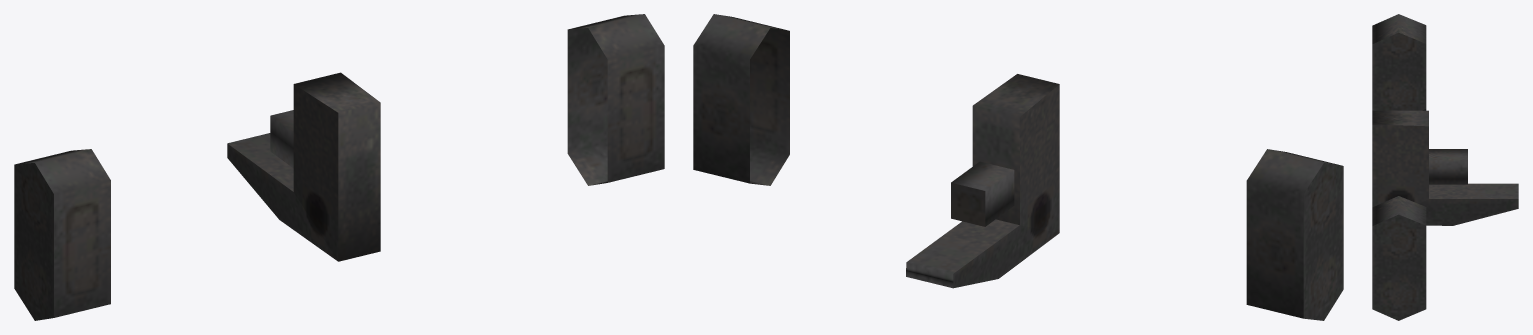
3 renders of one model, left to right at view 1: azimuth 30°, elevation 25°; view 2: azimuth 150°, elevation 25°; view 3: azimuth 270°, elevation 25°, orthographic. The views are drawn at different scales.
Visible parts, largest first — view 1: set_0_group_0; view 2: set_0_group_0; view 3: set_0_group_0.
Boxes of the visible parts, x1,y1,x2,y2 form: set_0_group_0: (14, 14, 664, 320); set_0_group_0: (693, 14, 1343, 320); set_0_group_0: (1372, 14, 1518, 320).
Size of the model in its own units: 0.5294 by 0.131 by 0.1635.
1 material, 1 textured.
